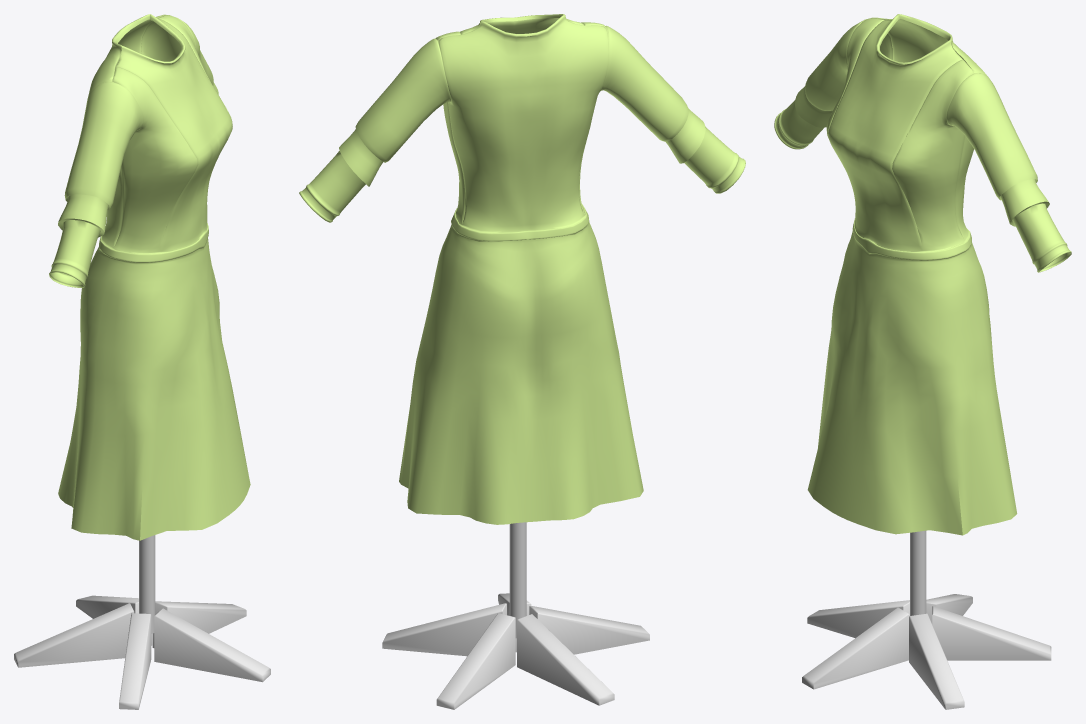
File: dress 2.fbx
3 views of the same model, side by side, from view 1: azimuth 30°, elevation 25°; view 2: azimuth 150°, elevation 25°; view 3: azimuth 270°, elevation 25° (orthographic). The views are drawn at different scales.
Parts seen in each view (by area): view 1: Plane001, Cube_3, Cube_1, Cube_2, Cube_4, Cylinder, Cube_5; view 2: Plane001, Cube_1, Cube_5, Cube_4, Cube_2, Cylinder; view 3: Plane001, Cube_3, Cube_5, Cube_4, Cube_2, Cylinder, Cube_1.
Part boxes in pixels (x1,y1,x2,y2): Plane001: [49, 14, 250, 540]; Cube_3: [154, 608, 270, 682]; Cube_1: [14, 603, 134, 667]; Cube_2: [119, 613, 151, 709]; Cube_4: [152, 601, 246, 647]; Cylinder: [139, 535, 155, 633]; Cube_5: [76, 595, 152, 645]; Plane001: [299, 14, 745, 524]; Cube_1: [517, 614, 614, 705]; Cube_5: [436, 613, 515, 709]; Cube_4: [382, 603, 506, 656]; Cube_2: [529, 606, 649, 654]; Cylinder: [509, 522, 526, 638]; Plane001: [774, 14, 1071, 535]; Cube_3: [802, 607, 909, 689]; Cube_5: [932, 606, 1051, 660]; Cube_4: [909, 613, 964, 709]; Cube_2: [807, 600, 909, 638]; Cylinder: [910, 530, 926, 615]; Cube_1: [926, 594, 972, 623].
Size of the model in its own units: 583 by 1158 by 501.
